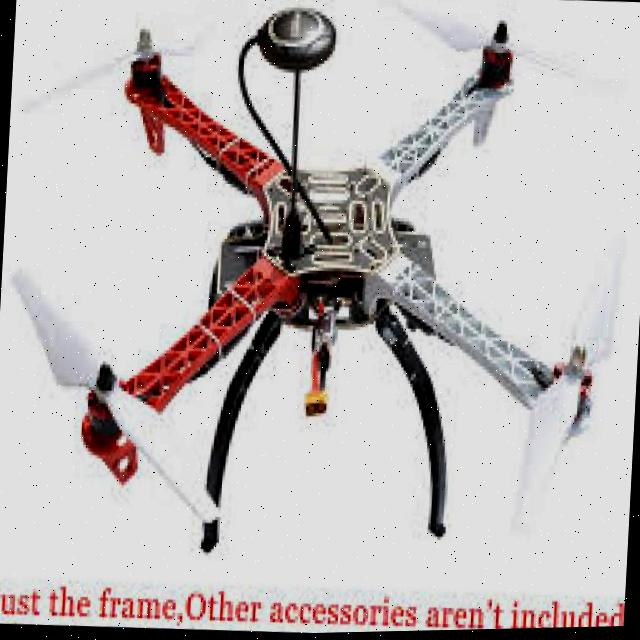drone: (10, 15, 640, 599)
